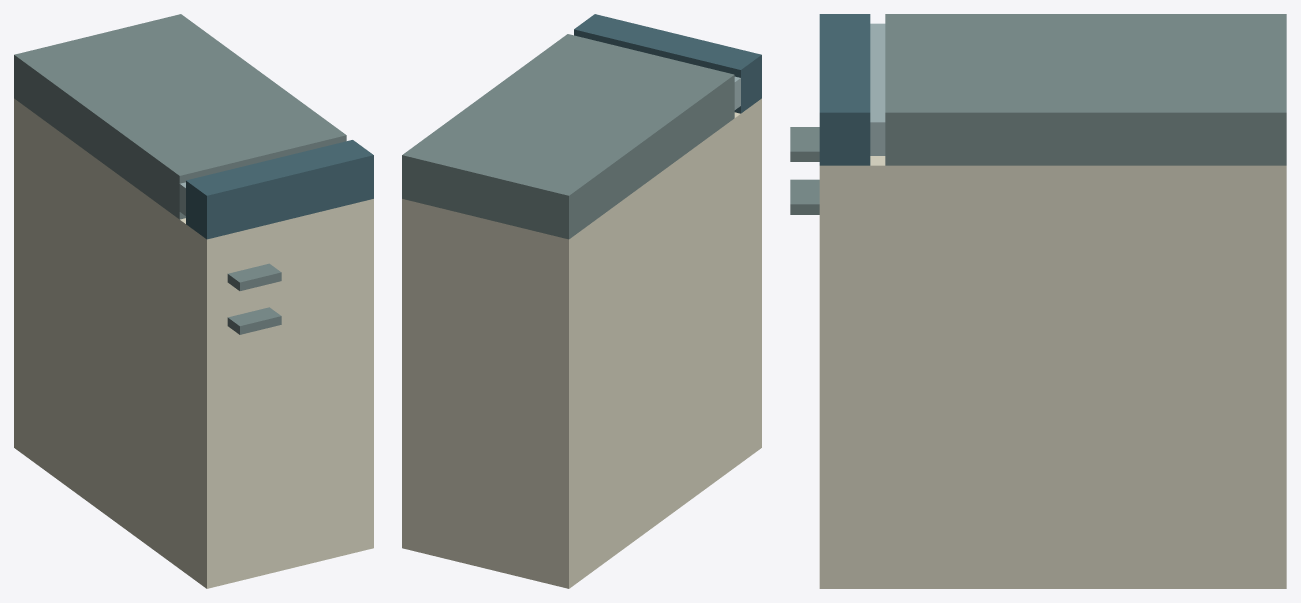
Rendered from FloorBlock-Half.002.fbx.
3 renders of one model, left to right at view 1: azimuth 30°, elevation 25°; view 2: azimuth 150°, elevation 25°; view 3: azimuth 270°, elevation 25°, orthographic. The views are drawn at different scales.
Parts seen in each view (by area): view 1: FloorBlock-Half.002; view 2: FloorBlock-Half.002; view 3: FloorBlock-Half.002.
Boxes of the visible parts, x1,y1,x2,y2 form: FloorBlock-Half.002: (14,14,373,588); FloorBlock-Half.002: (402,14,761,588); FloorBlock-Half.002: (790,14,1286,588).
Size of the model in its own units: 400 by 900 by 850.
